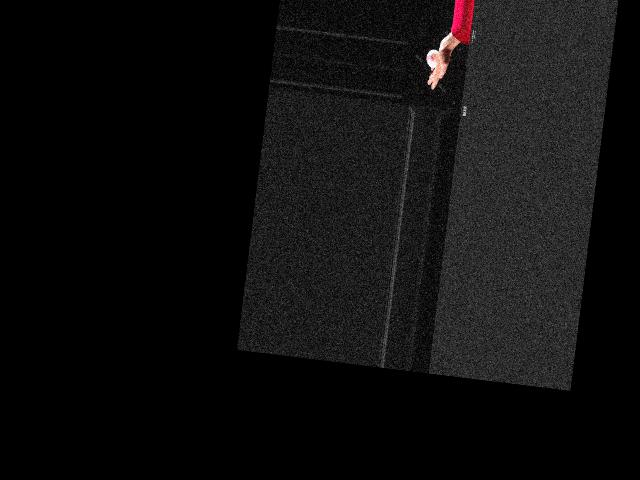egg: (425, 48, 439, 67)
